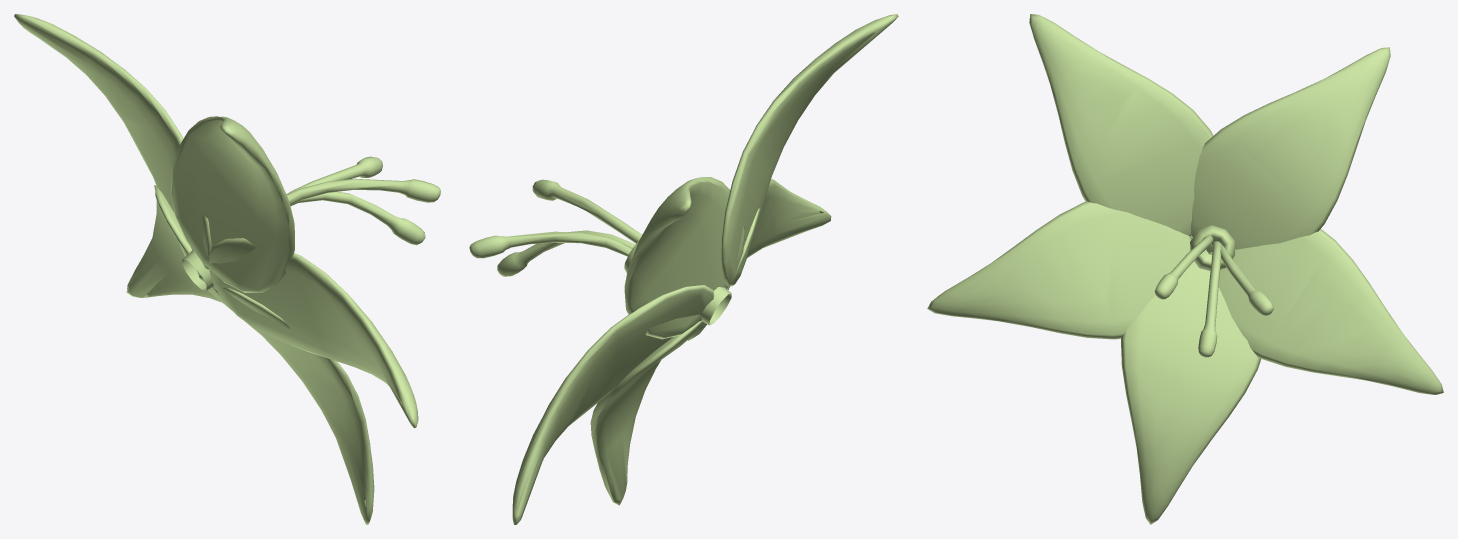
Rendered from Head_accessory_01.fbx.
3 views of the same model, side by side, from view 1: azimuth 30°, elevation 25°; view 2: azimuth 150°, elevation 25°; view 3: azimuth 270°, elevation 25° (orthographic). The views are drawn at different scales.
Parts seen in each view (by area): view 1: Head_accessory_01; view 2: Head_accessory_01; view 3: Head_accessory_01.
Part boxes in pixels (x1=…): Head_accessory_01: x1=14, y1=14, x2=440, y2=524; Head_accessory_01: x1=469, y1=14, x2=898, y2=524; Head_accessory_01: x1=927, y1=14, x2=1443, y2=524.
Size of the model in its own units: 45.33 by 71.36 by 78.99.
